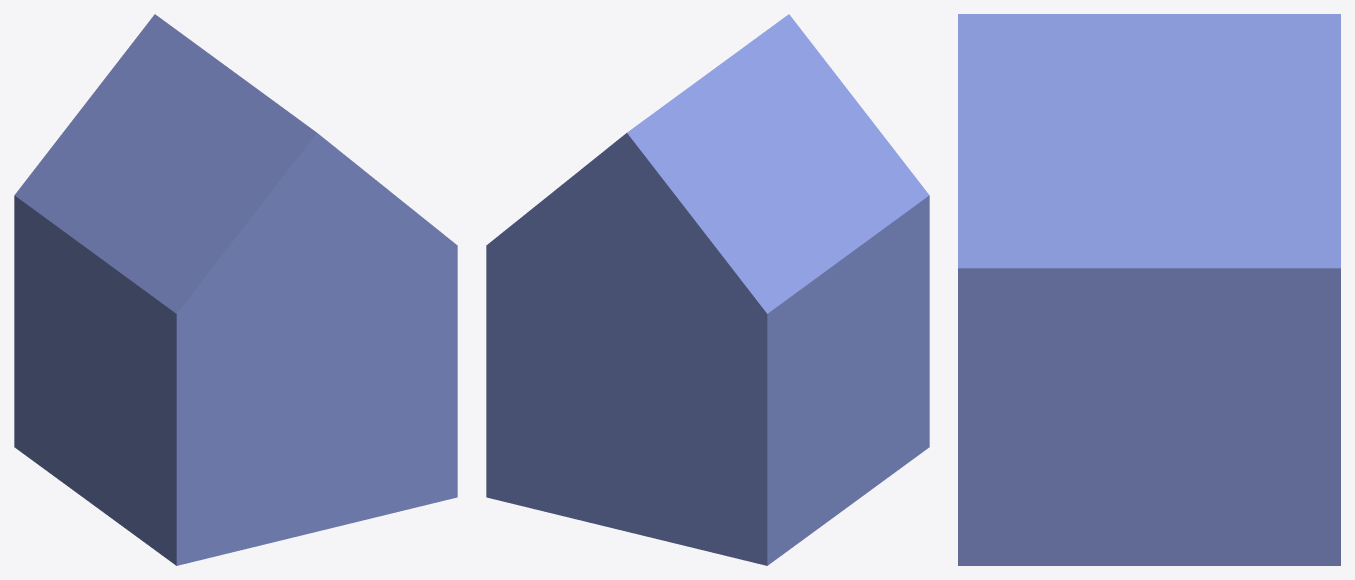
The model's file is S_House_Small_01_Blockout.fbx.
3 views of the same model, side by side, from view 1: azimuth 30°, elevation 25°; view 2: azimuth 150°, elevation 25°; view 3: azimuth 270°, elevation 25° (orthographic). The views are drawn at different scales.
Visible parts, largest first — view 1: S_House_Small_01_Blockout; view 2: S_House_Small_01_Blockout; view 3: S_House_Small_01_Blockout.
Boxes of the visible parts, x1=… form: S_House_Small_01_Blockout: x1=14, y1=14, x2=457, y2=565; S_House_Small_01_Blockout: x1=486, y1=14, x2=929, y2=565; S_House_Small_01_Blockout: x1=958, y1=14, x2=1340, y2=565.
Bounding box in the file's own units: 350 × 475 × 350.
